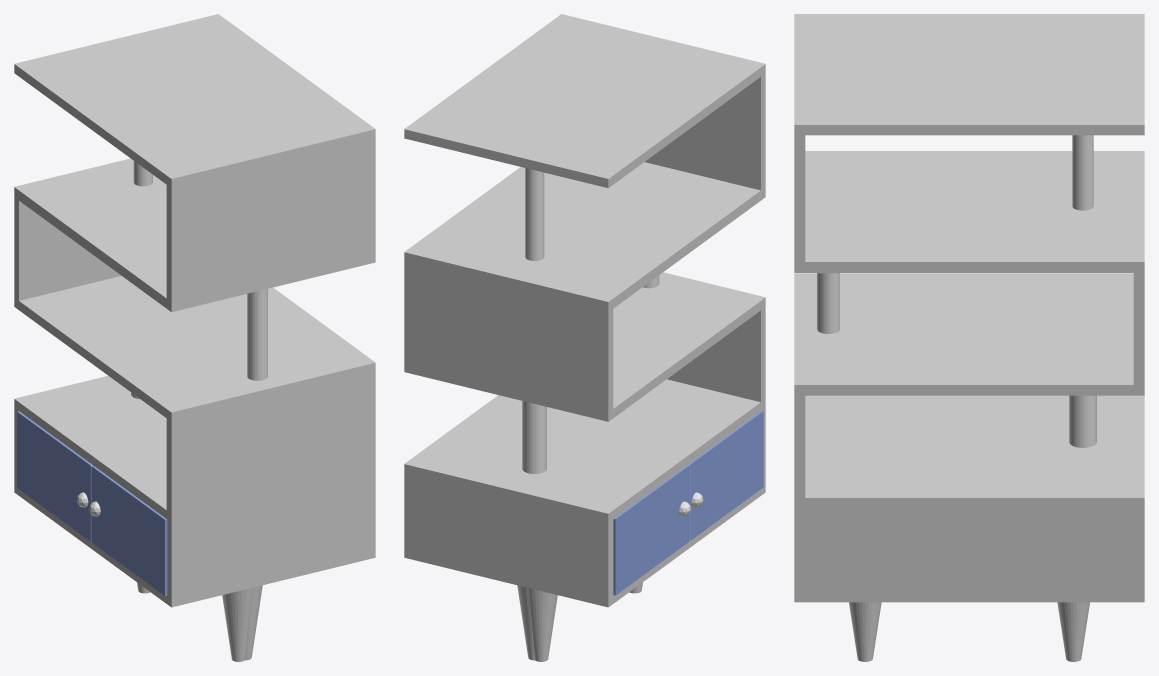
Rendered from bookshelf_modern_small (2).fbx.
3 views of the same model, side by side, from view 1: azimuth 30°, elevation 25°; view 2: azimuth 150°, elevation 25°; view 3: azimuth 270°, elevation 25° (orthographic). The views are drawn at different scales.
Visible parts, largest first — view 1: Cube, Cube.001, Cylinder, Cylinder.002; view 2: Cube, Cube.001, Cylinder, Cylinder.001, Cylinder.003; view 3: Cube, Cylinder, Cylinder.001, Cylinder.003, Cylinder.002.
Part boxes in pixels (box(x1,y1,x2,y2)): Cube: box(14, 14, 375, 607); Cube.001: box(17, 411, 167, 595); Cylinder: box(137, 582, 262, 661); Cylinder.002: box(247, 289, 267, 380); Cube: box(404, 14, 765, 607); Cube.001: box(613, 410, 763, 595); Cylinder: box(517, 582, 642, 661); Cylinder.001: box(525, 168, 544, 260); Cylinder.003: box(522, 401, 546, 473); Cube: box(794, 14, 1144, 602); Cylinder: box(849, 602, 1089, 661); Cylinder.001: box(1072, 135, 1093, 210); Cylinder.003: box(1069, 395, 1096, 447); Cylinder.002: box(817, 273, 839, 333).
Size of the model in its own units: 56.22 by 133 by 71.92.
